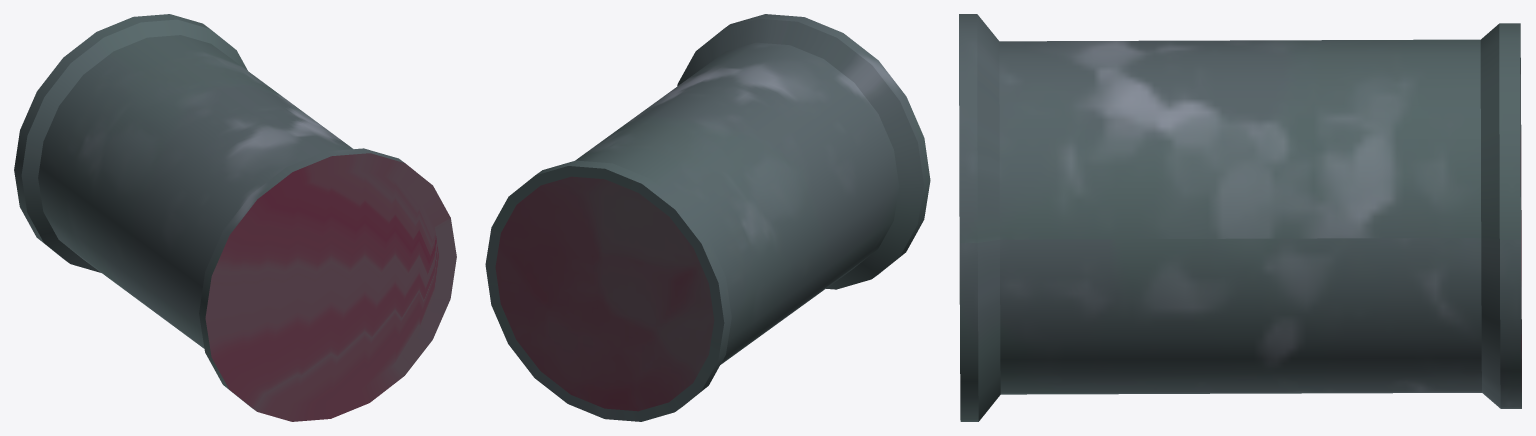
Rendered from Half_Straight_Pipe.fbx.
3 views of the same model, side by side, from view 1: azimuth 30°, elevation 25°; view 2: azimuth 150°, elevation 25°; view 3: azimuth 270°, elevation 25° (orthographic). The views are drawn at different scales.
Parts seen in each view (by area): view 1: HALF_STRAIGHTPIPE_001; view 2: HALF_STRAIGHTPIPE_001; view 3: HALF_STRAIGHTPIPE_001.
Boxes of the visible parts, box(x1,y1,x2,y2) form: HALF_STRAIGHTPIPE_001: box(14, 14, 456, 421); HALF_STRAIGHTPIPE_001: box(485, 14, 930, 421); HALF_STRAIGHTPIPE_001: box(959, 14, 1521, 421).
Bounding box in the file's own units: 43.48 × 43.48 × 59.55.
